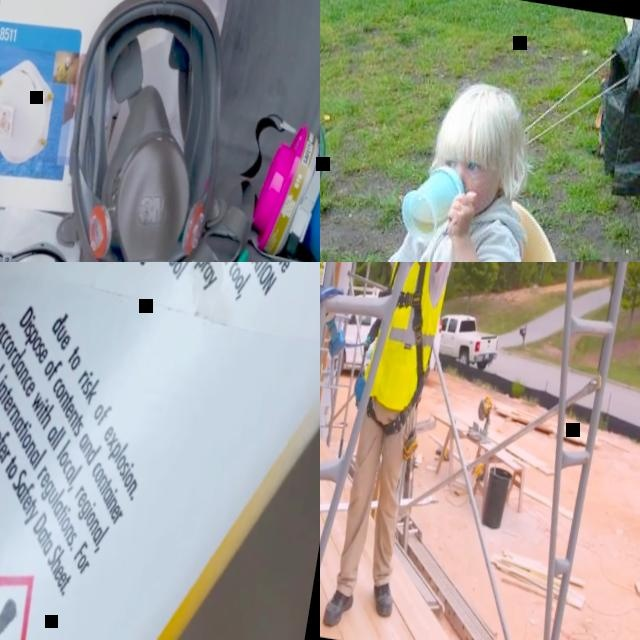Mask: (44, 0, 246, 262), (202, 72, 320, 262)
NO-Hardhat: (433, 78, 532, 168)
NO-Mask: (451, 170, 501, 211)
NO-Safety Vest: (395, 200, 520, 262)
Person: (320, 262, 476, 637), (320, 62, 553, 262)
Safety Vest: (360, 262, 452, 414)
vehicle: (320, 280, 447, 382), (434, 311, 502, 370)
